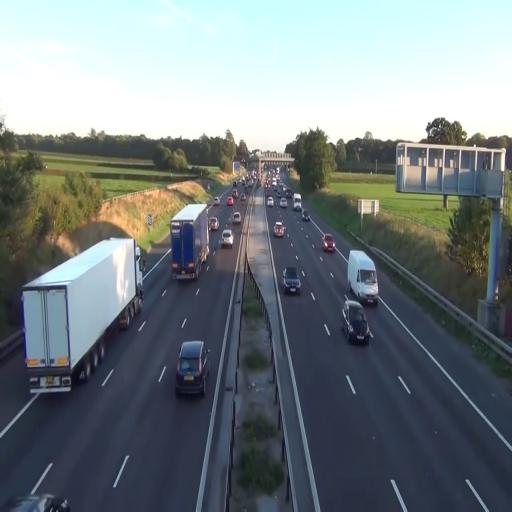vehicle: (20, 234, 145, 395), (170, 202, 211, 280), (170, 202, 210, 280), (347, 250, 379, 310), (175, 340, 209, 396), (347, 251, 379, 310), (342, 300, 371, 346), (282, 268, 303, 294), (322, 234, 336, 253), (220, 228, 234, 246), (274, 221, 285, 238)
